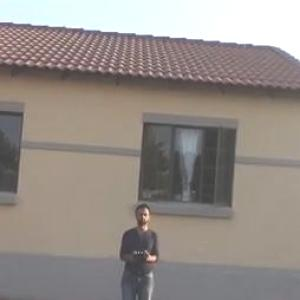follow: (113, 195, 163, 299)
